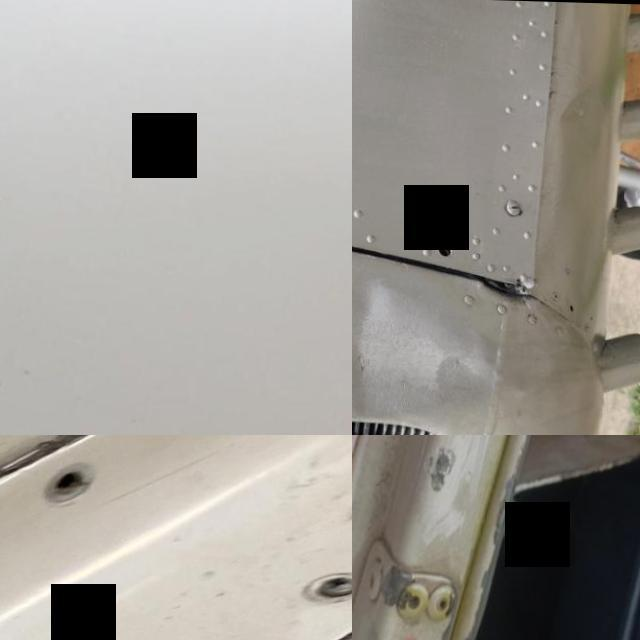Crack: (352, 539, 434, 640), (419, 435, 465, 503)
Dent: (352, 260, 506, 430)
Missing_Fastener: (31, 464, 111, 502), (427, 220, 471, 264)
